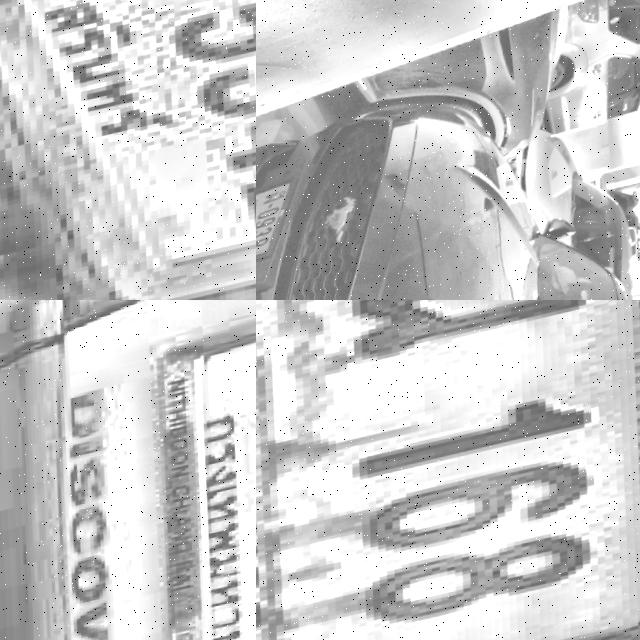license-plate: (256, 300, 640, 640), (0, 0, 256, 300), (95, 300, 256, 640), (256, 179, 312, 278)
